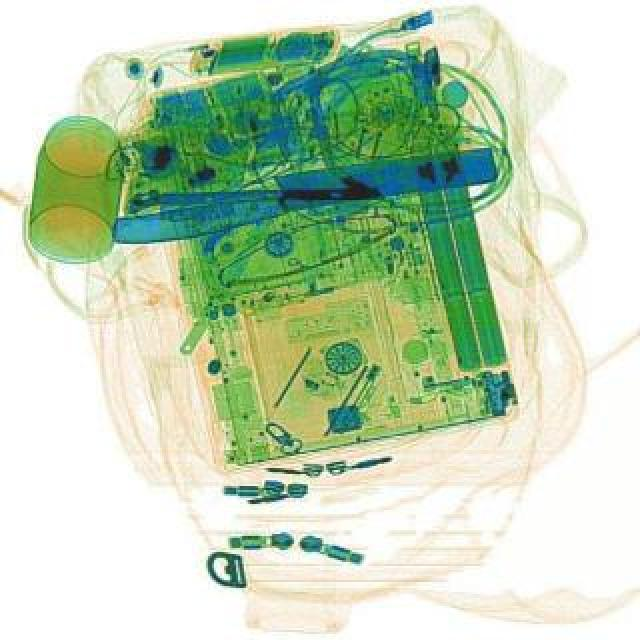knife: (106, 142, 502, 248)
